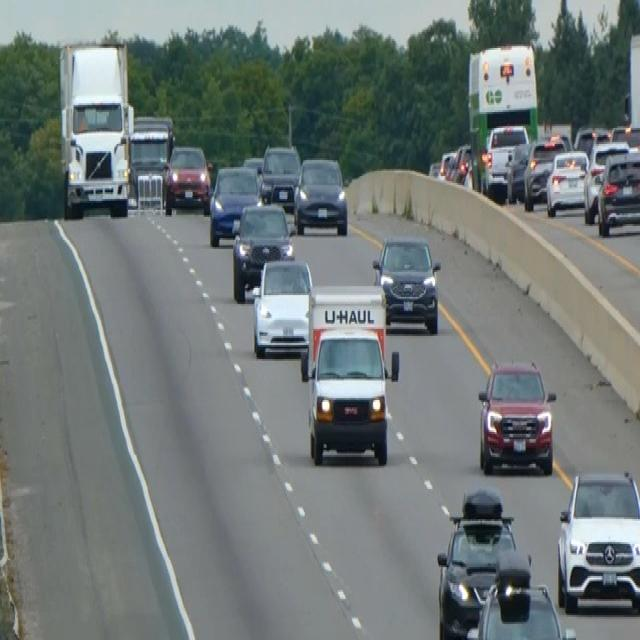bus: (465, 39, 539, 194)
car: (436, 486, 526, 638), (556, 466, 639, 615), (464, 550, 577, 638), (476, 356, 556, 476), (371, 233, 441, 334), (250, 255, 314, 358), (231, 199, 294, 301), (293, 154, 348, 234), (208, 162, 261, 245), (583, 139, 629, 222), (596, 150, 639, 236), (162, 142, 210, 214), (523, 135, 568, 210), (482, 121, 528, 194), (545, 147, 589, 217), (258, 142, 300, 208), (505, 138, 532, 202), (573, 123, 609, 160), (610, 121, 639, 156), (450, 142, 471, 185), (242, 155, 264, 183), (439, 150, 456, 180)
lorry: (57, 37, 134, 219), (127, 114, 173, 206)
truck: (298, 284, 400, 468)
